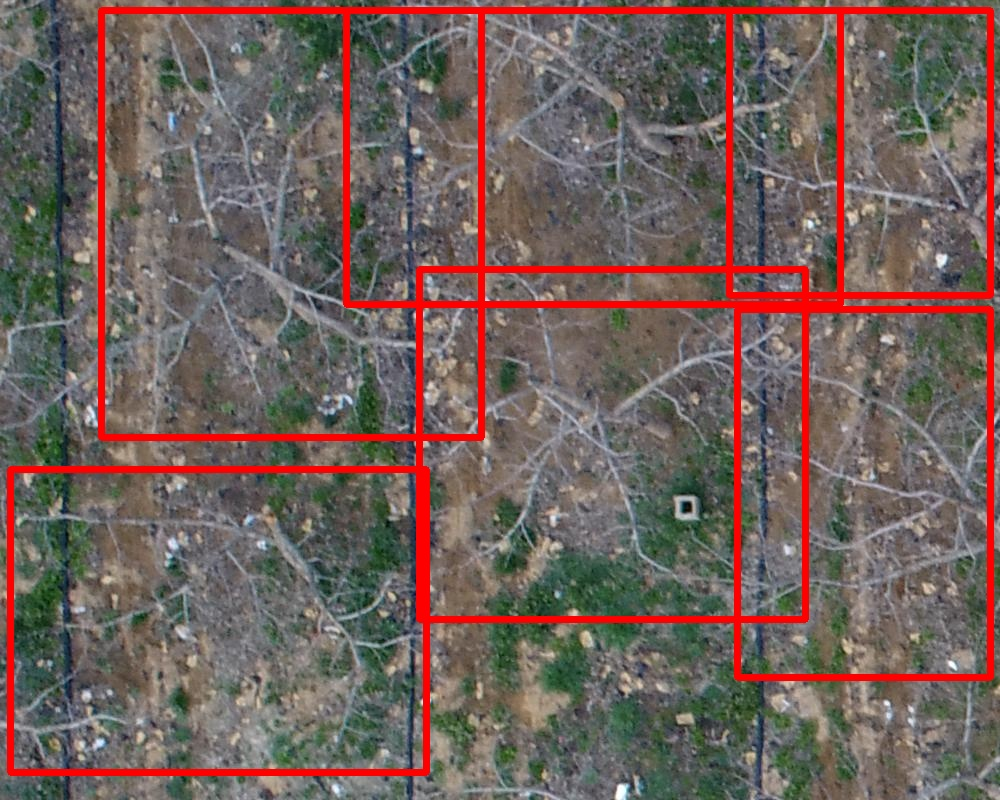apple: (101, 10, 481, 437), (346, 10, 840, 304), (419, 269, 805, 619), (10, 469, 426, 772), (737, 309, 990, 677), (729, 10, 990, 295)
